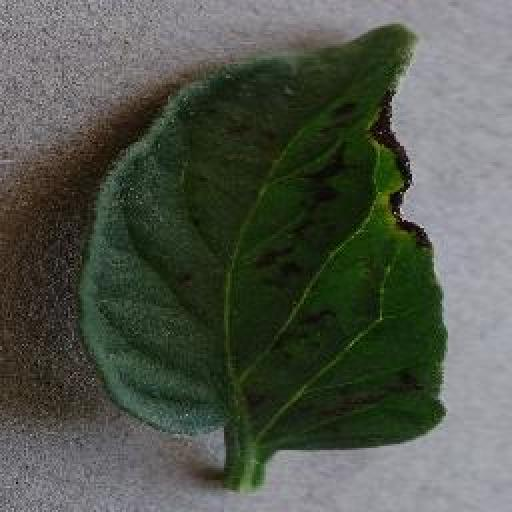Early Blight: (88, 22, 447, 450)
